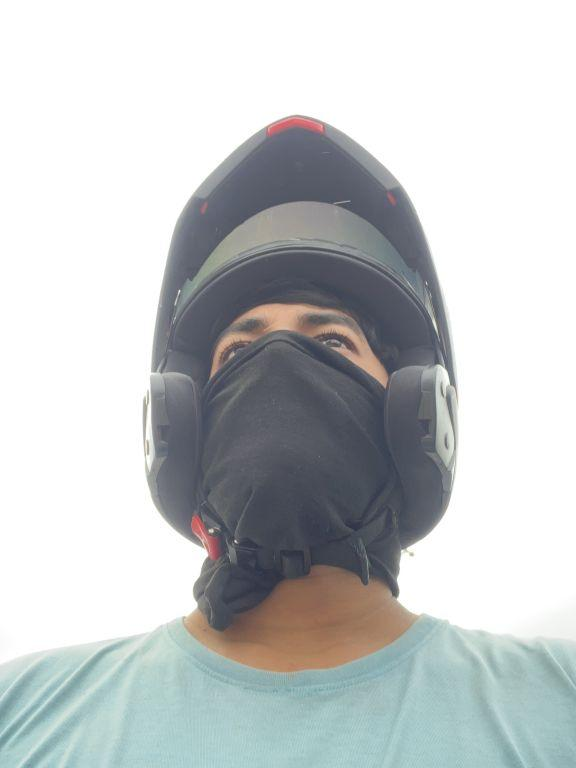helmet: (119, 95, 477, 610)
